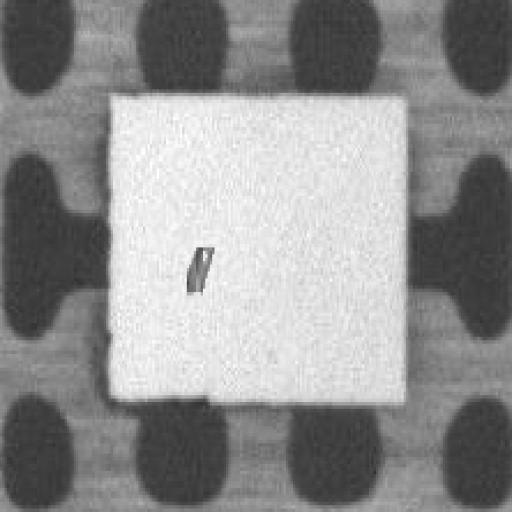DIE_INK: (182, 241, 219, 292)
